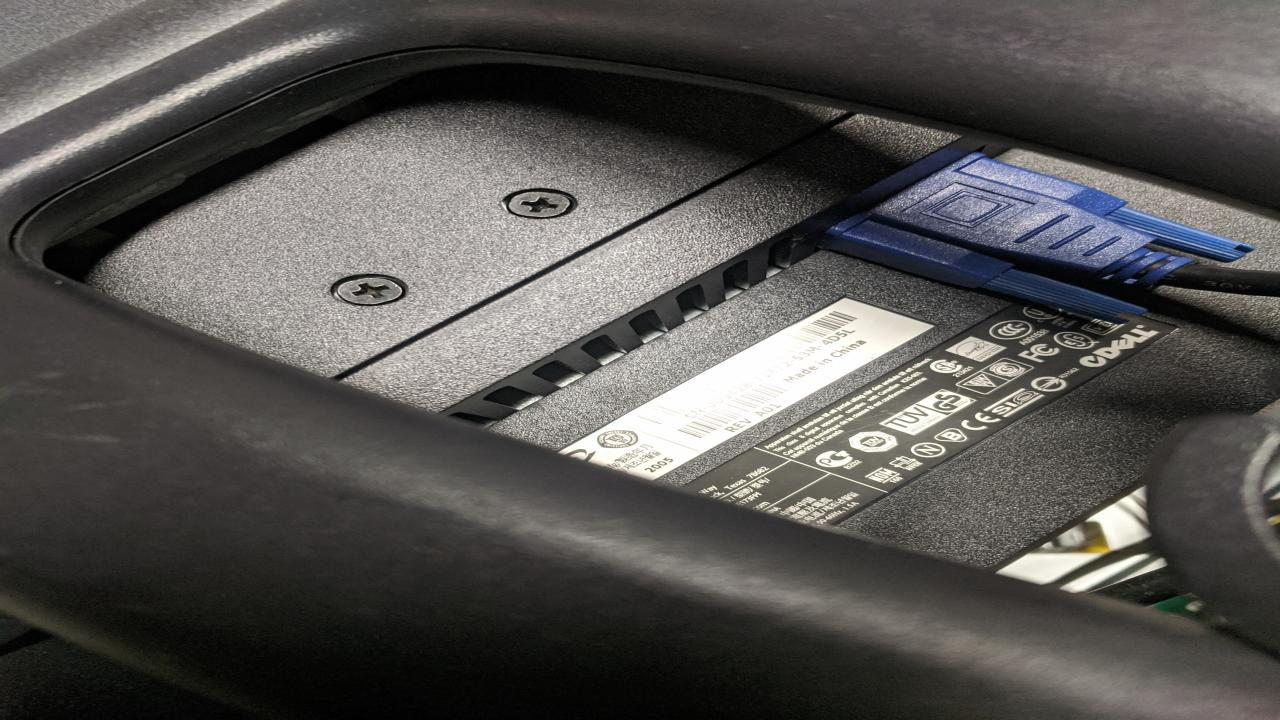CRS: (329, 274, 412, 306), (496, 189, 576, 219)
